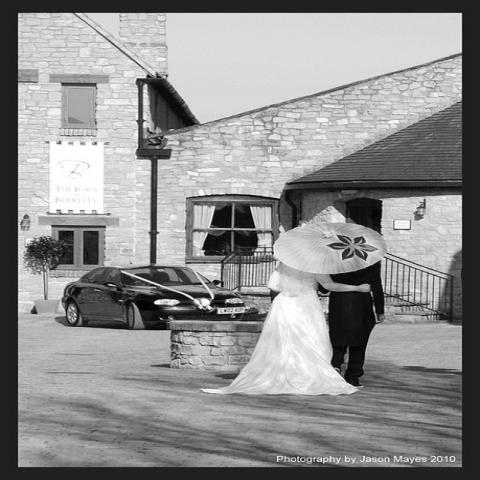car: (63, 267, 248, 330)
